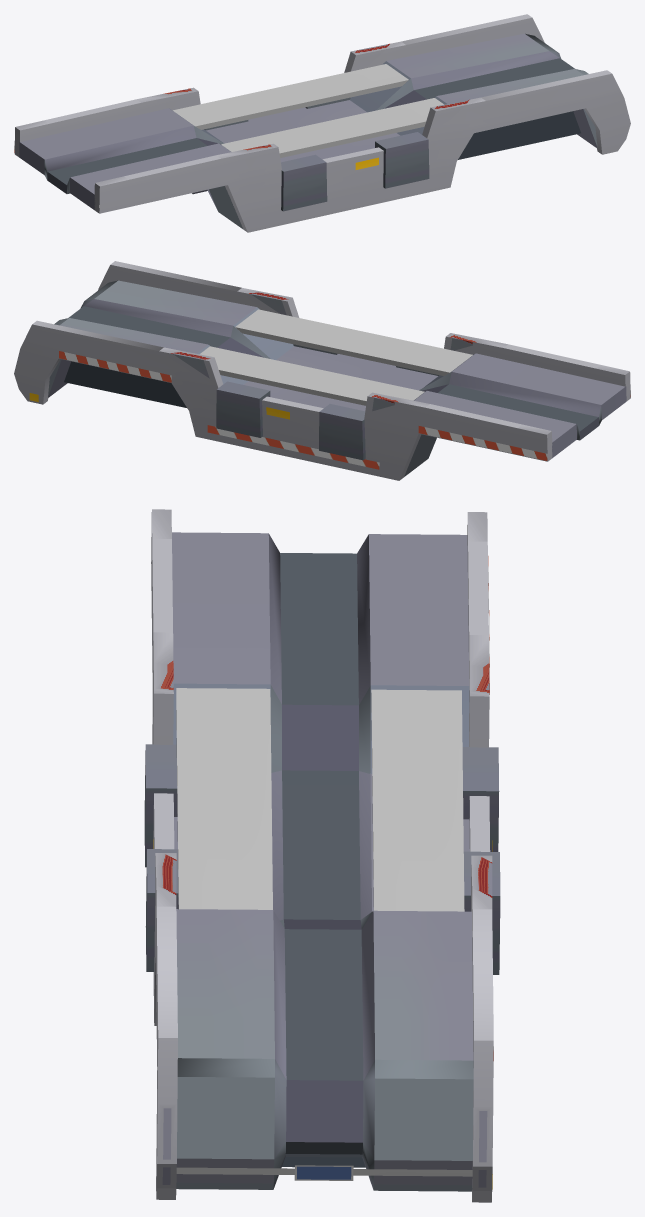
File: Car trailer.fbx
3 renders of one model, top to bottom at view 1: azimuth 30°, elevation 25°; view 2: azimuth 150°, elevation 25°; view 3: azimuth 270°, elevation 25°, orthographic. The views are drawn at different scales.
Parts seen in each view (by area): view 1: polySurface31; view 2: polySurface31; view 3: polySurface31.
Boxes of the visible parts, left/top/right/bottom form: polySurface31: left=14, top=14, right=630, bottom=232; polySurface31: left=14, top=261, right=630, bottom=480; polySurface31: left=144, top=509, right=500, bottom=1202.
Size of the model in its own units: 2514 by 423 by 726.
